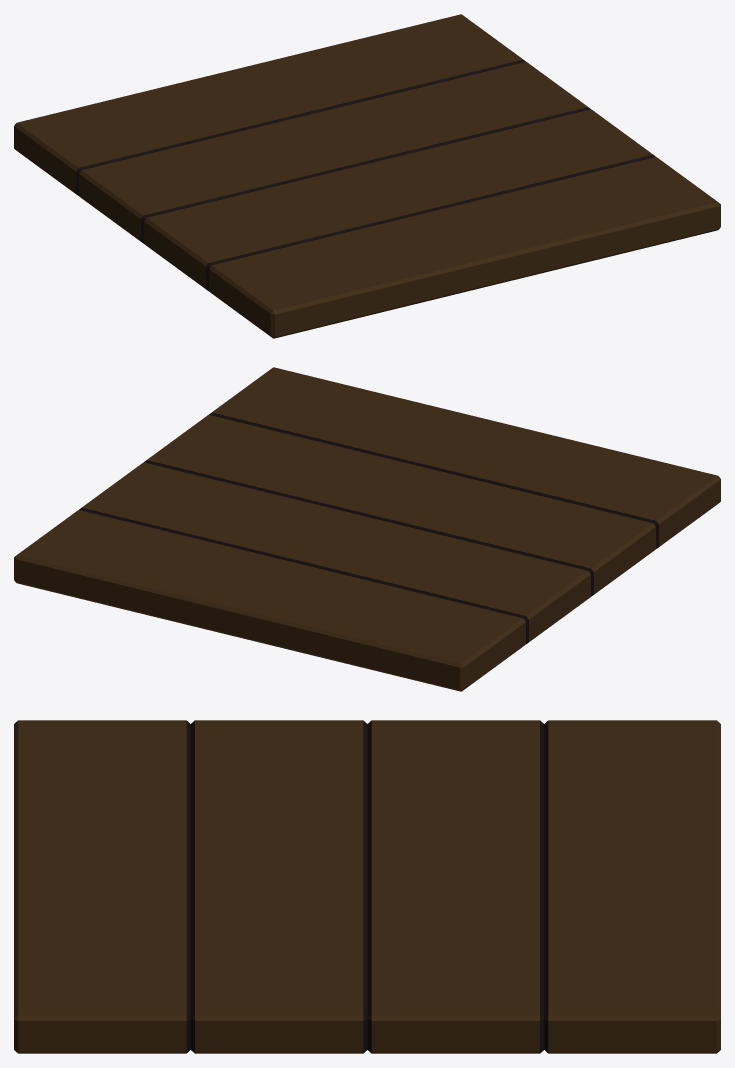
Rendered from elvador.fbx.
3 views of the same model, one above another, from view 1: azimuth 30°, elevation 25°; view 2: azimuth 150°, elevation 25°; view 3: azimuth 270°, elevation 25° (orthographic). The views are drawn at different scales.
Parts seen in each view (by area): view 1: pCube103; view 2: pCube103; view 3: pCube103.
Boxes of the visible parts, x1,y1,x2,y2 form: pCube103: [14, 14, 720, 338]; pCube103: [14, 367, 720, 691]; pCube103: [14, 720, 720, 1053].
Size of the model in its own units: 299 by 17.85 by 299.
1 material, 1 textured.
